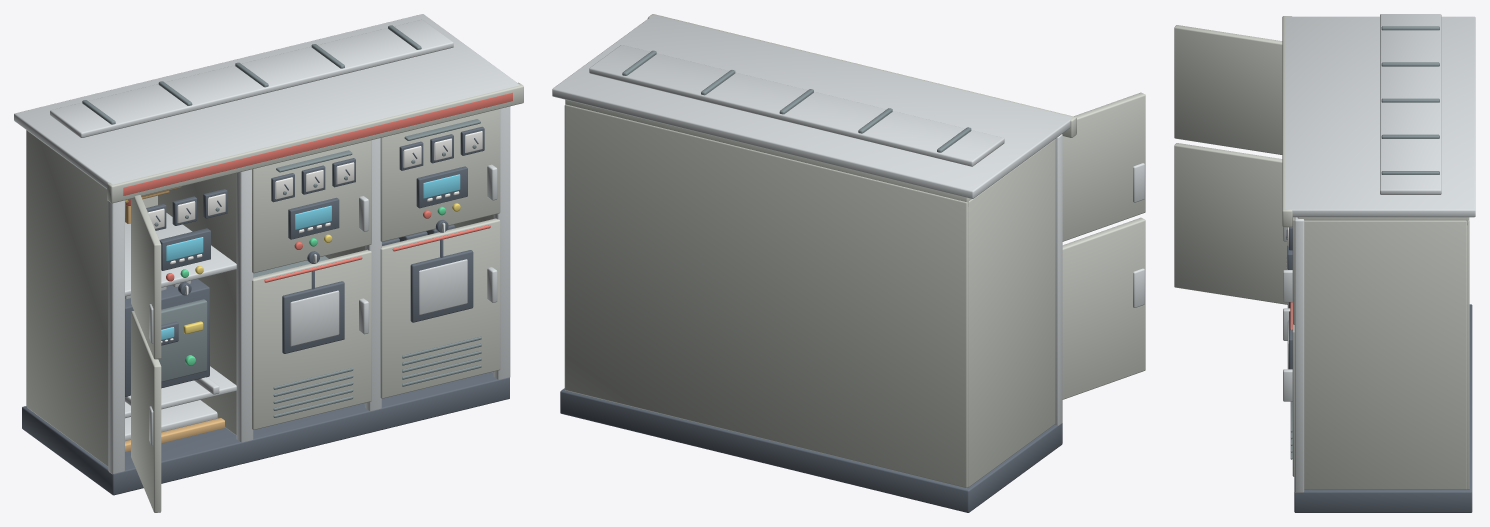
Rendered from esb_cubicle.glb.
3 views of the same model, side by side, from view 1: azimuth 30°, elevation 25°; view 2: azimuth 150°, elevation 25°; view 3: azimuth 270°, elevation 25° (orthographic). The views are drawn at different scales.
Parts seen in each view (by area): view 1: ESB_Frame__Steel, ESB_Door, ESB_Frame__PebbleGrey, ESB_Frame, ESB_Metering_Panel, ESB_Door__Steel, ESB_Door__Iron, ESB_Frame__StatusRed, ESB_Door__DarkPlinth, ESB_Metering_Panel__WhiteDial, ESB_Tie_ACB__Iron, ESB_Tie_ACB__DarkPlinth (+5 smaller); view 2: ESB_Frame__PebbleGrey, ESB_Frame__Steel, ESB_Door, ESB_Frame, ESB_Frame__Iron, ESB_Door__Steel; view 3: ESB_Frame__PebbleGrey, ESB_Frame__Steel, ESB_Door, ESB_Frame, ESB_Frame__Iron, ESB_Door__Steel.
Boxes of the visible parts, x1,y1,x2,y2 form: ESB_Frame__Steel: [14, 14, 519, 474]; ESB_Door: [131, 109, 500, 512]; ESB_Frame__PebbleGrey: [26, 82, 523, 466]; ESB_Frame: [22, 372, 509, 495]; ESB_Metering_Panel: [146, 126, 484, 295]; ESB_Door__Steel: [149, 164, 497, 446]; ESB_Door__Iron: [273, 119, 481, 417]; ESB_Frame__StatusRed: [123, 92, 512, 195]; ESB_Door__DarkPlinth: [282, 239, 473, 353]; ESB_Metering_Panel__WhiteDial: [148, 131, 482, 264]; ESB_Tie_ACB__Iron: [158, 256, 328, 381]; ESB_Tie_ACB__DarkPlinth: [125, 224, 454, 396]; ESB_Frame__PebbleGrey: [564, 14, 1076, 488]; ESB_Frame__Steel: [552, 15, 1072, 426]; ESB_Door: [1062, 92, 1145, 399]; ESB_Frame: [560, 388, 1062, 512]; ESB_Frame__Iron: [622, 50, 971, 152]; ESB_Door__Steel: [1133, 163, 1144, 307]; ESB_Frame__PebbleGrey: [1282, 16, 1469, 489]; ESB_Frame__Steel: [1285, 14, 1475, 492]; ESB_Door: [1174, 25, 1294, 476]; ESB_Frame: [1294, 304, 1472, 512]; ESB_Frame__Iron: [1381, 26, 1439, 174]; ESB_Door__Steel: [1283, 227, 1292, 401].
Size of the model in its own units: 1.39 by 1.03 by 0.8809.
